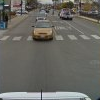crosswalk: (0, 34, 100, 40)
